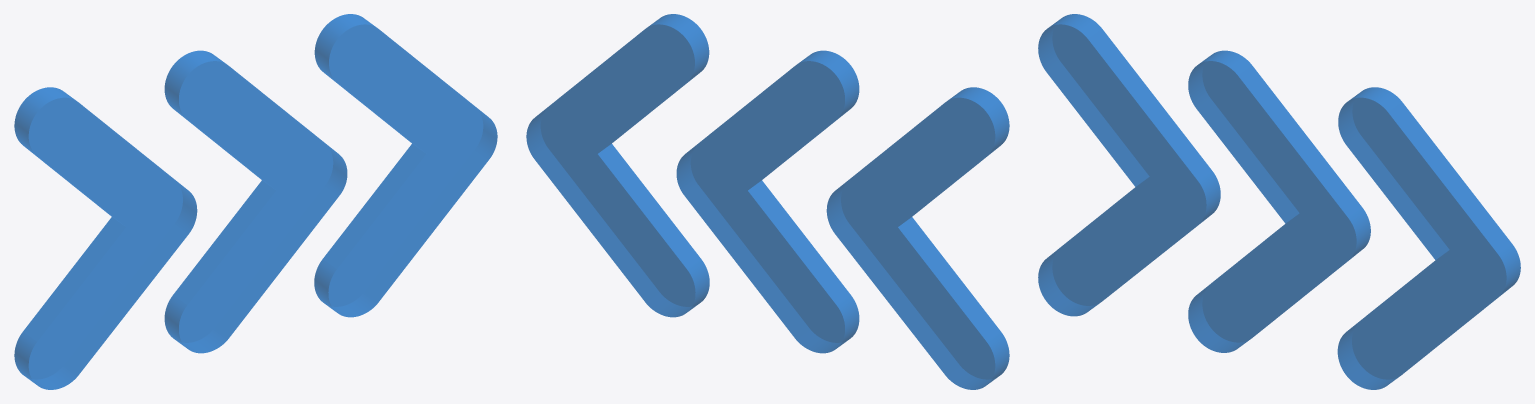
The model's file is noun_Arrow_1921075.fbx.
The picture shows the model from 3 angles, left to right: view 1: azimuth 30°, elevation 25°; view 2: azimuth 150°, elevation 25°; view 3: azimuth 330°, elevation 25°; orthographic projection.
Parts seen in each view (by area): view 1: 挤压_1; view 2: 挤压_1; view 3: 挤压_1.
Boxes of the visible parts, <box> form: 挤压_1: <box>14,14,497,389</box>; 挤压_1: <box>526,14,1009,389</box>; 挤压_1: <box>1038,14,1520,389</box>.
Bounding box in the file's own units: 94.93 × 56.32 × 5.
